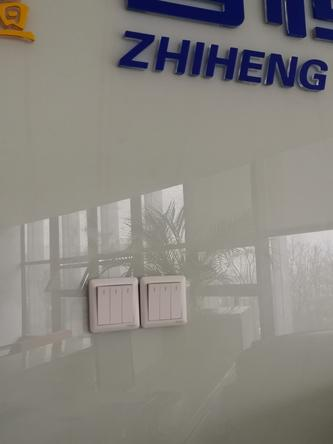switch: (94, 283, 112, 327), (119, 282, 136, 326), (146, 277, 161, 325), (158, 278, 174, 322), (170, 281, 187, 321), (110, 282, 124, 327)
